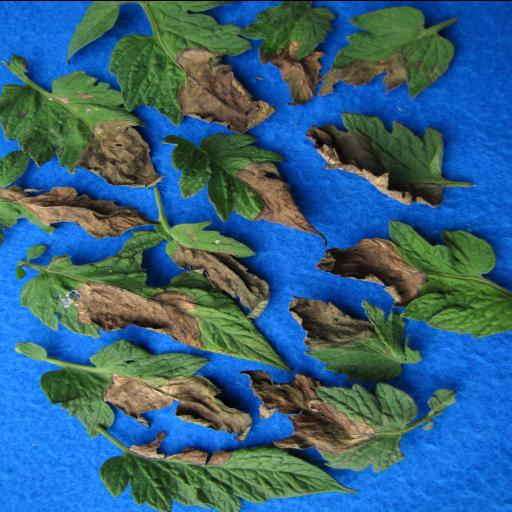Late Blight: (22, 259, 280, 363), (320, 222, 512, 342), (241, 365, 453, 471), (38, 342, 256, 438), (4, 58, 158, 188), (90, 434, 345, 510), (301, 109, 461, 212), (168, 127, 306, 234), (286, 282, 414, 394), (317, 6, 467, 96), (158, 202, 274, 318), (254, 0, 328, 107)
